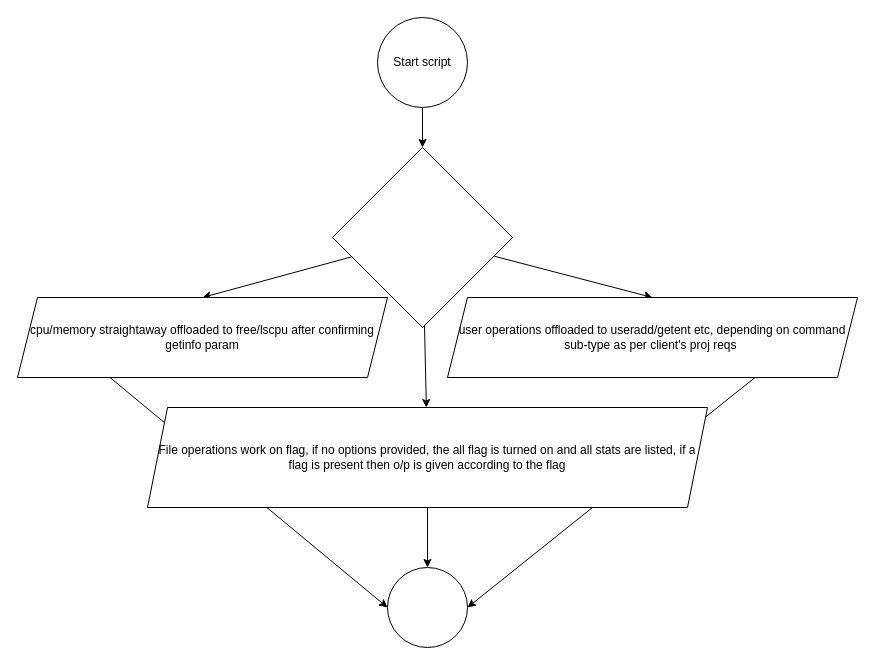
The diagram is 875 pixels wide and 665 high, and some of its shapes have lost their labels. The shapes that lost their labels are listed below. From the top down, each one's box as (x1, y1, x2, y2) in pixels, then its label:
(332, 146, 512, 328): cpu, memory, user, file subprogram computation
(386, 566, 468, 648): End
